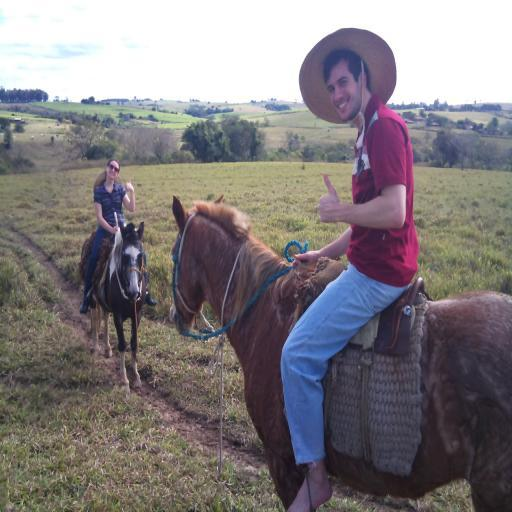Horse: (168, 190, 512, 512), (81, 219, 145, 395)
